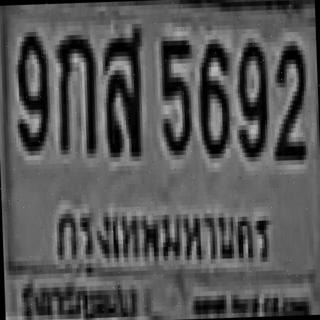A01: (54, 30, 96, 150)
A40: (101, 24, 143, 152)
N02: (269, 38, 306, 158)
N05: (158, 36, 193, 151)
N06: (196, 35, 228, 154)
N09: (12, 27, 49, 151), (233, 38, 268, 157)
P04: (50, 188, 272, 280)
